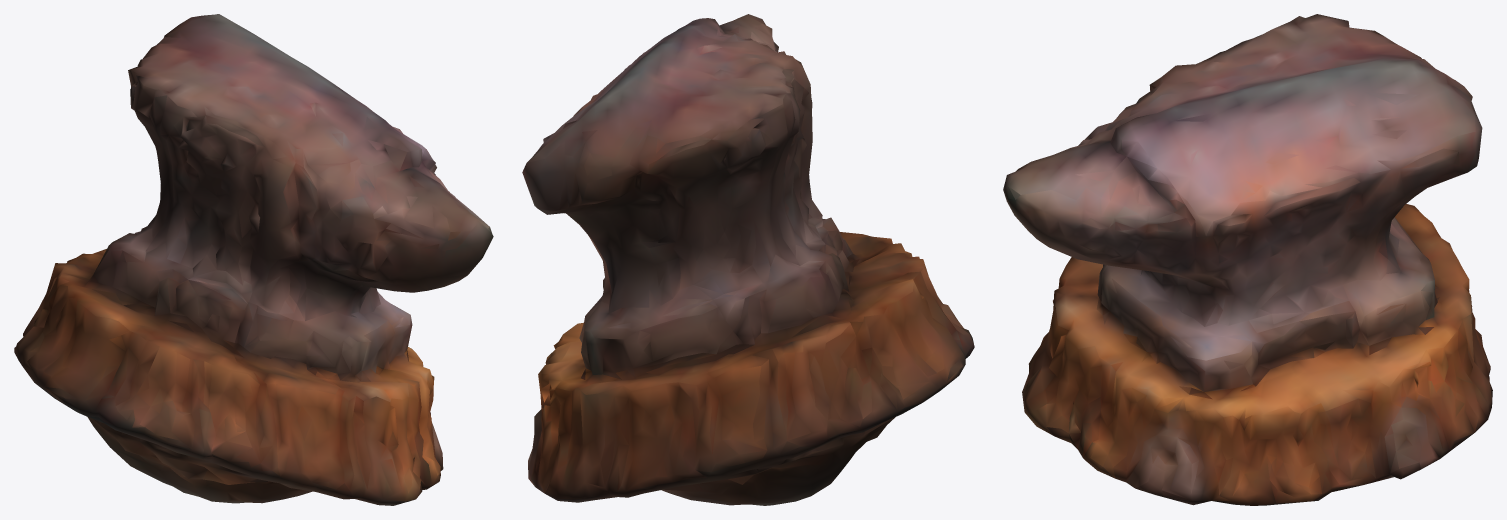
Rendered from anvil.glb.
The picture shows the model from 3 angles, left to right: view 1: azimuth 30°, elevation 25°; view 2: azimuth 150°, elevation 25°; view 3: azimuth 270°, elevation 25°; orthographic projection. The views are drawn at different scales.
Visible parts, largest first — view 1: model; view 2: model; view 3: model.
Part boxes in pixels (x1,y1,x2,y2): model: (14, 14, 493, 505); model: (522, 14, 974, 505); model: (1003, 14, 1492, 505).
Bounding box in the file's own units: 1.36 × 1.44 × 1.6.
Materials: 1 (1 with a texture image).
